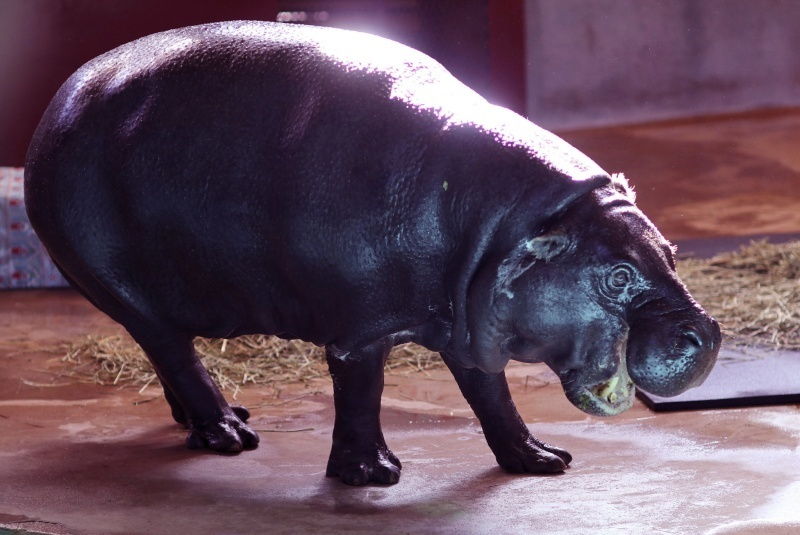hipopotamo: (6, 1, 745, 501)
